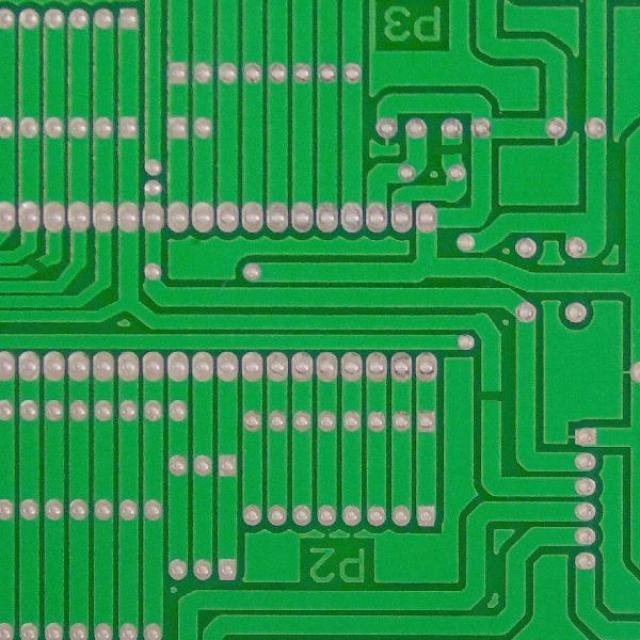Open_Circuit: (471, 381, 514, 415), (430, 138, 471, 162), (22, 252, 56, 278)
